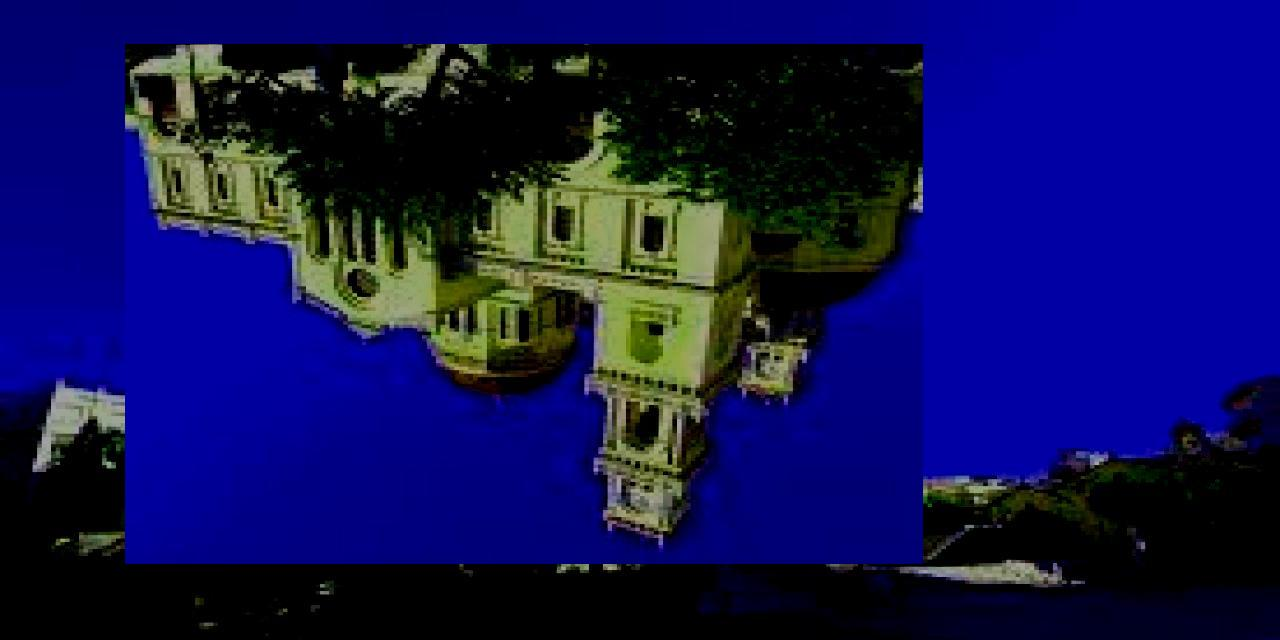Agios Minas: (126, 45, 924, 565)
